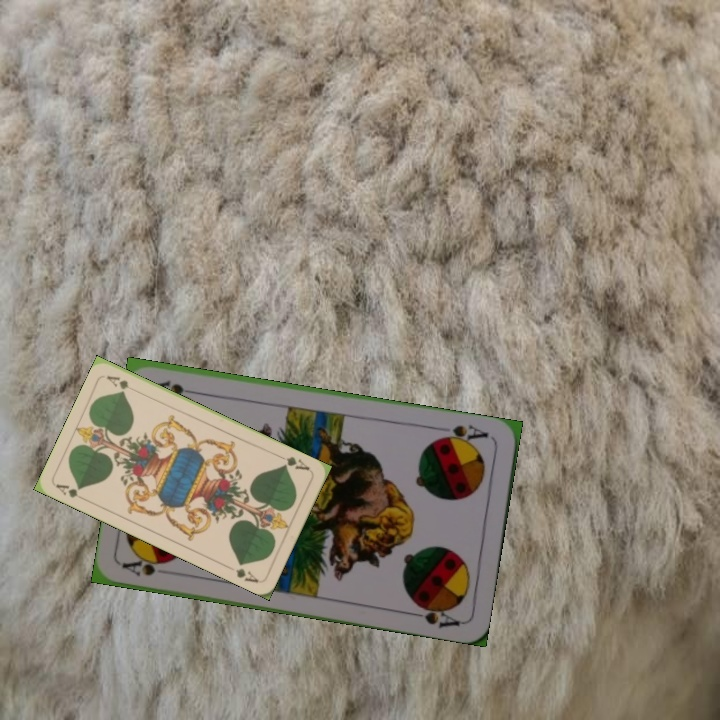GA: (52, 480, 90, 504), (274, 451, 313, 473)
SA: (433, 421, 491, 448), (118, 554, 173, 579)
